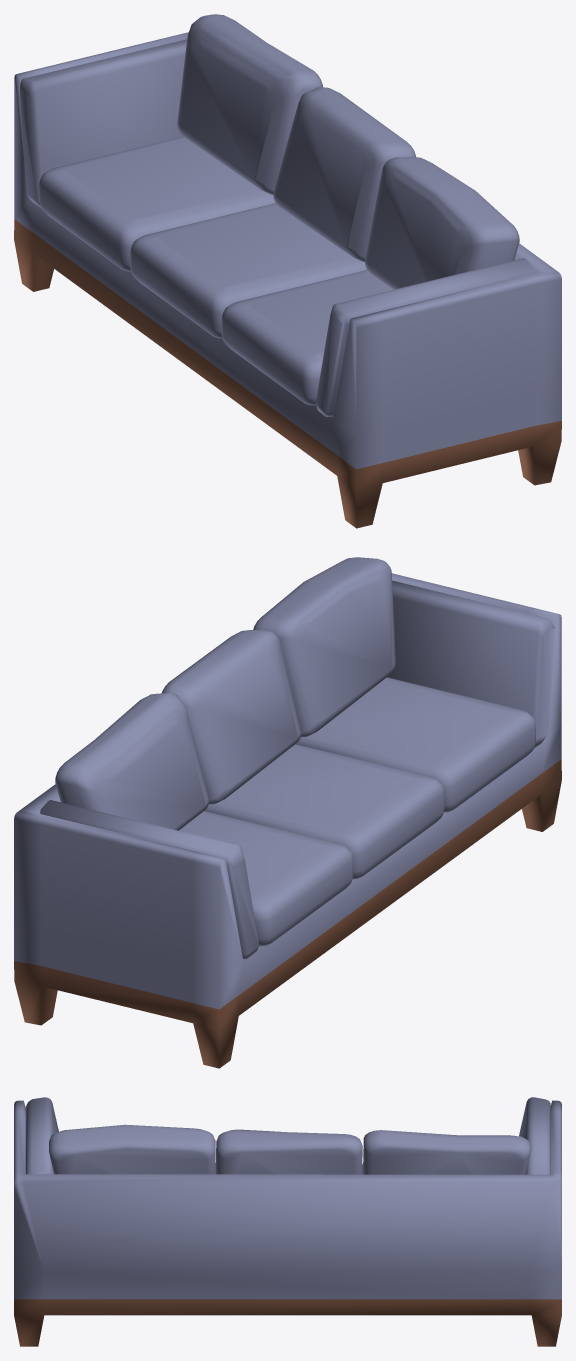
The model's file is sofa2.fbx.
The picture shows the model from 3 angles, top to bottom: view 1: azimuth 30°, elevation 25°; view 2: azimuth 150°, elevation 25°; view 3: azimuth 270°, elevation 25°; orthographic projection. The views are drawn at different scales.
Parts seen in each view (by area): view 1: Cube; view 2: Cube; view 3: Cube.
Boxes of the visible parts, x1,y1,x2,y2 form: Cube: [14, 14, 561, 528]; Cube: [14, 557, 561, 1068]; Cube: [14, 1097, 561, 1346].
Size of the model in its own units: 4.2 by 4.57 by 11.13.
